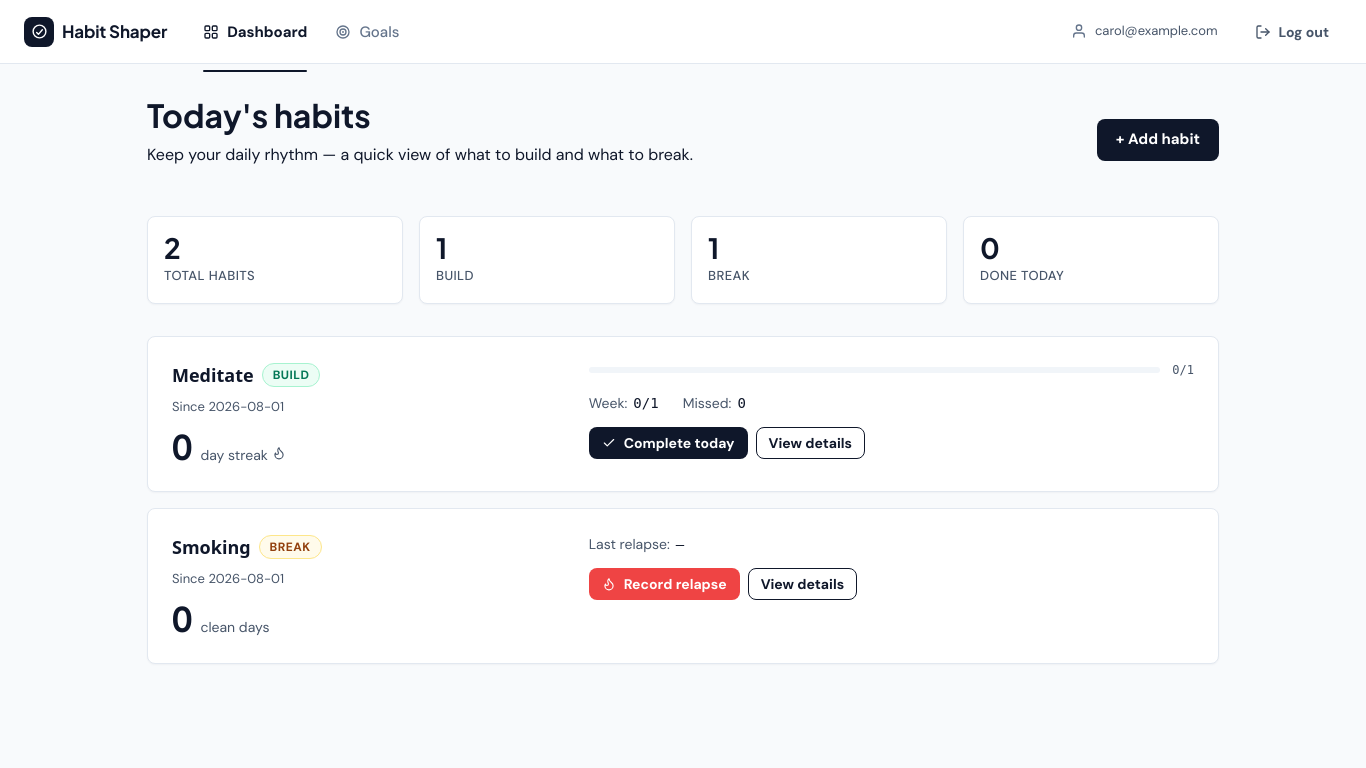
Test: Dashboard — add habit modal › keeps the modal open on validation/API error and shows the error
Expected: the heading "Today's habits" is shown, left=147, top=95, right=371, bottom=135
Click the button "+ Add habit".
click(1158, 140)  # box left=1097, top=119, right=1219, bottom=161
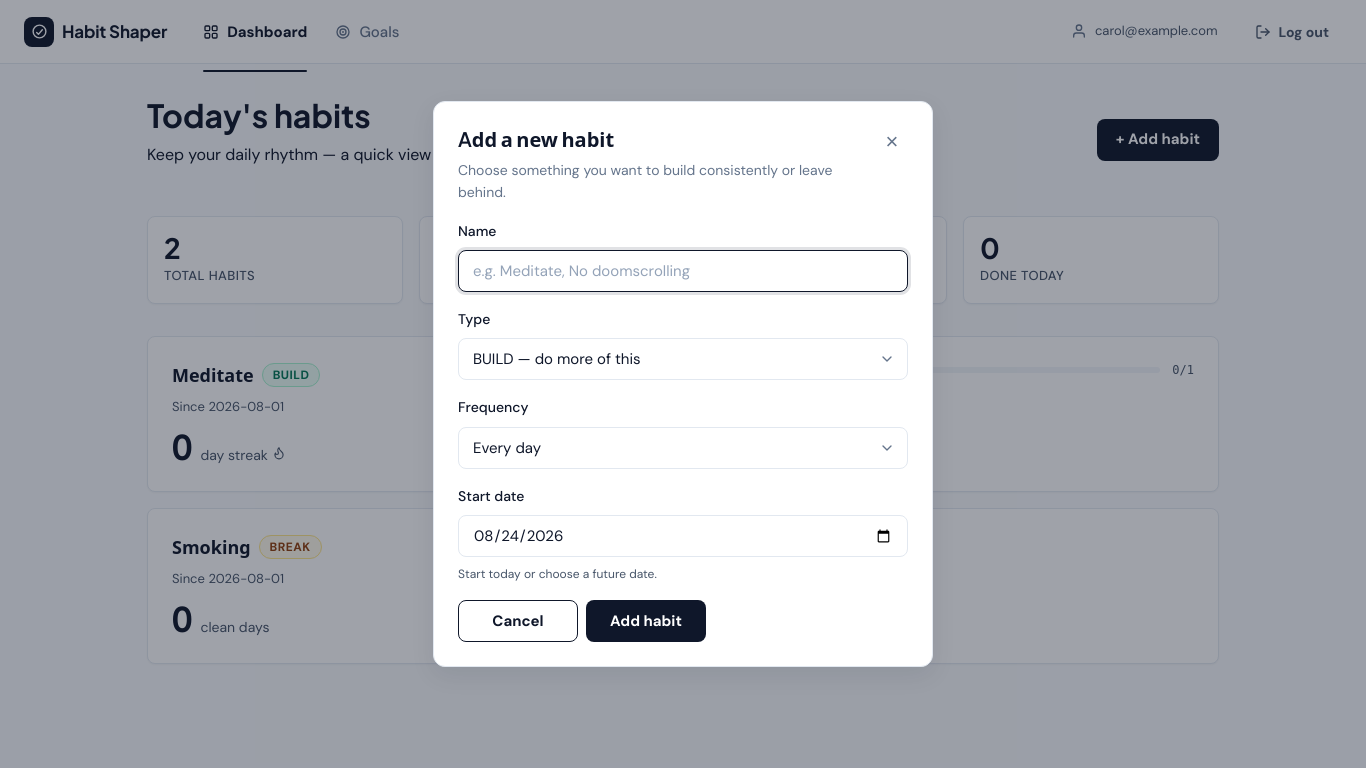
Type "Bad habit" into the field labelled "Name".
click(683, 271); type("Bad habit")  # box left=458, top=250, right=908, bottom=292
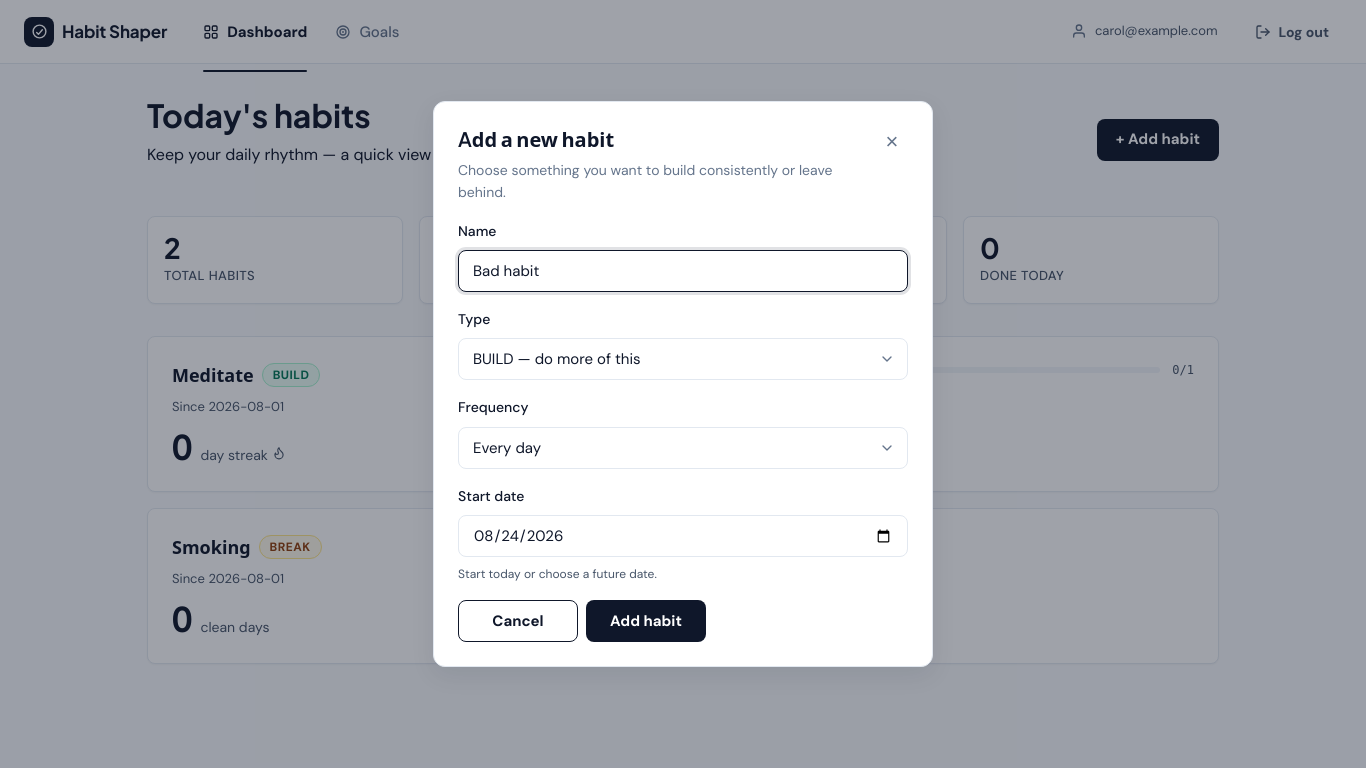
Click the button "Add habit".
click(646, 621)  # box left=586, top=600, right=706, bottom=642
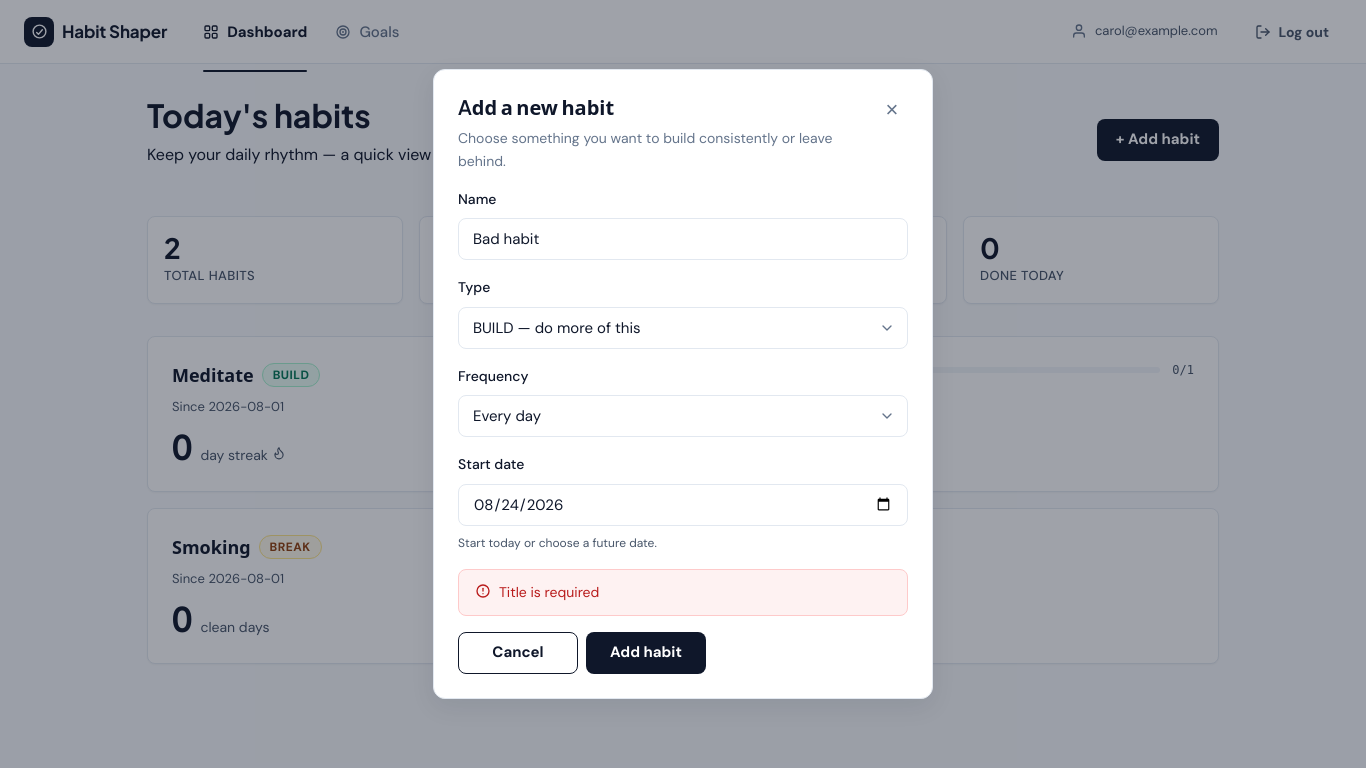
Expected: the dialog is shown, left=433, top=69, right=933, bottom=699
Expected: the message reads "Title is required", left=499, top=583, right=599, bottom=601
